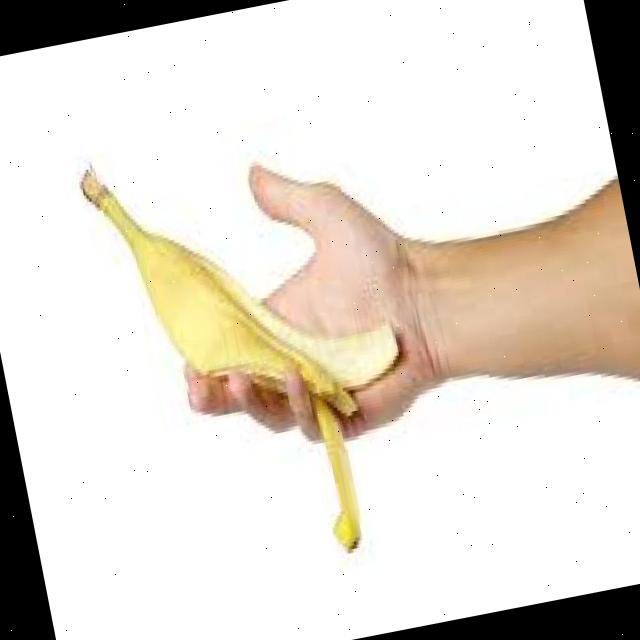banana-peel: (73, 110, 436, 590)
